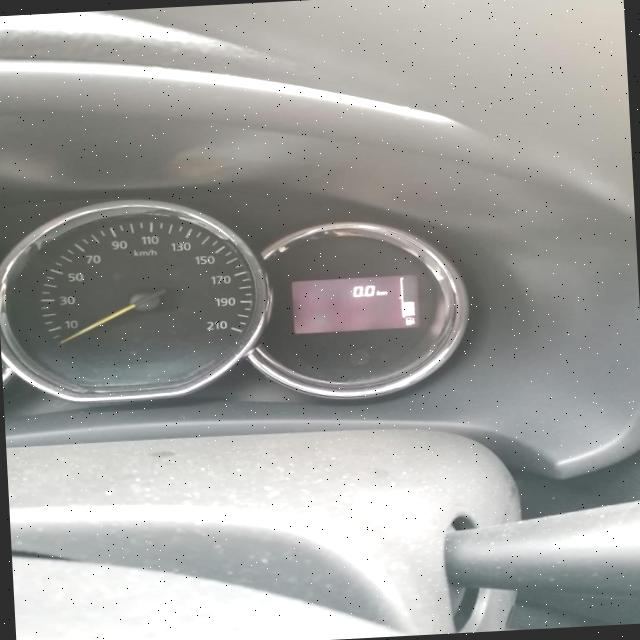odometer: (288, 272, 422, 336)
